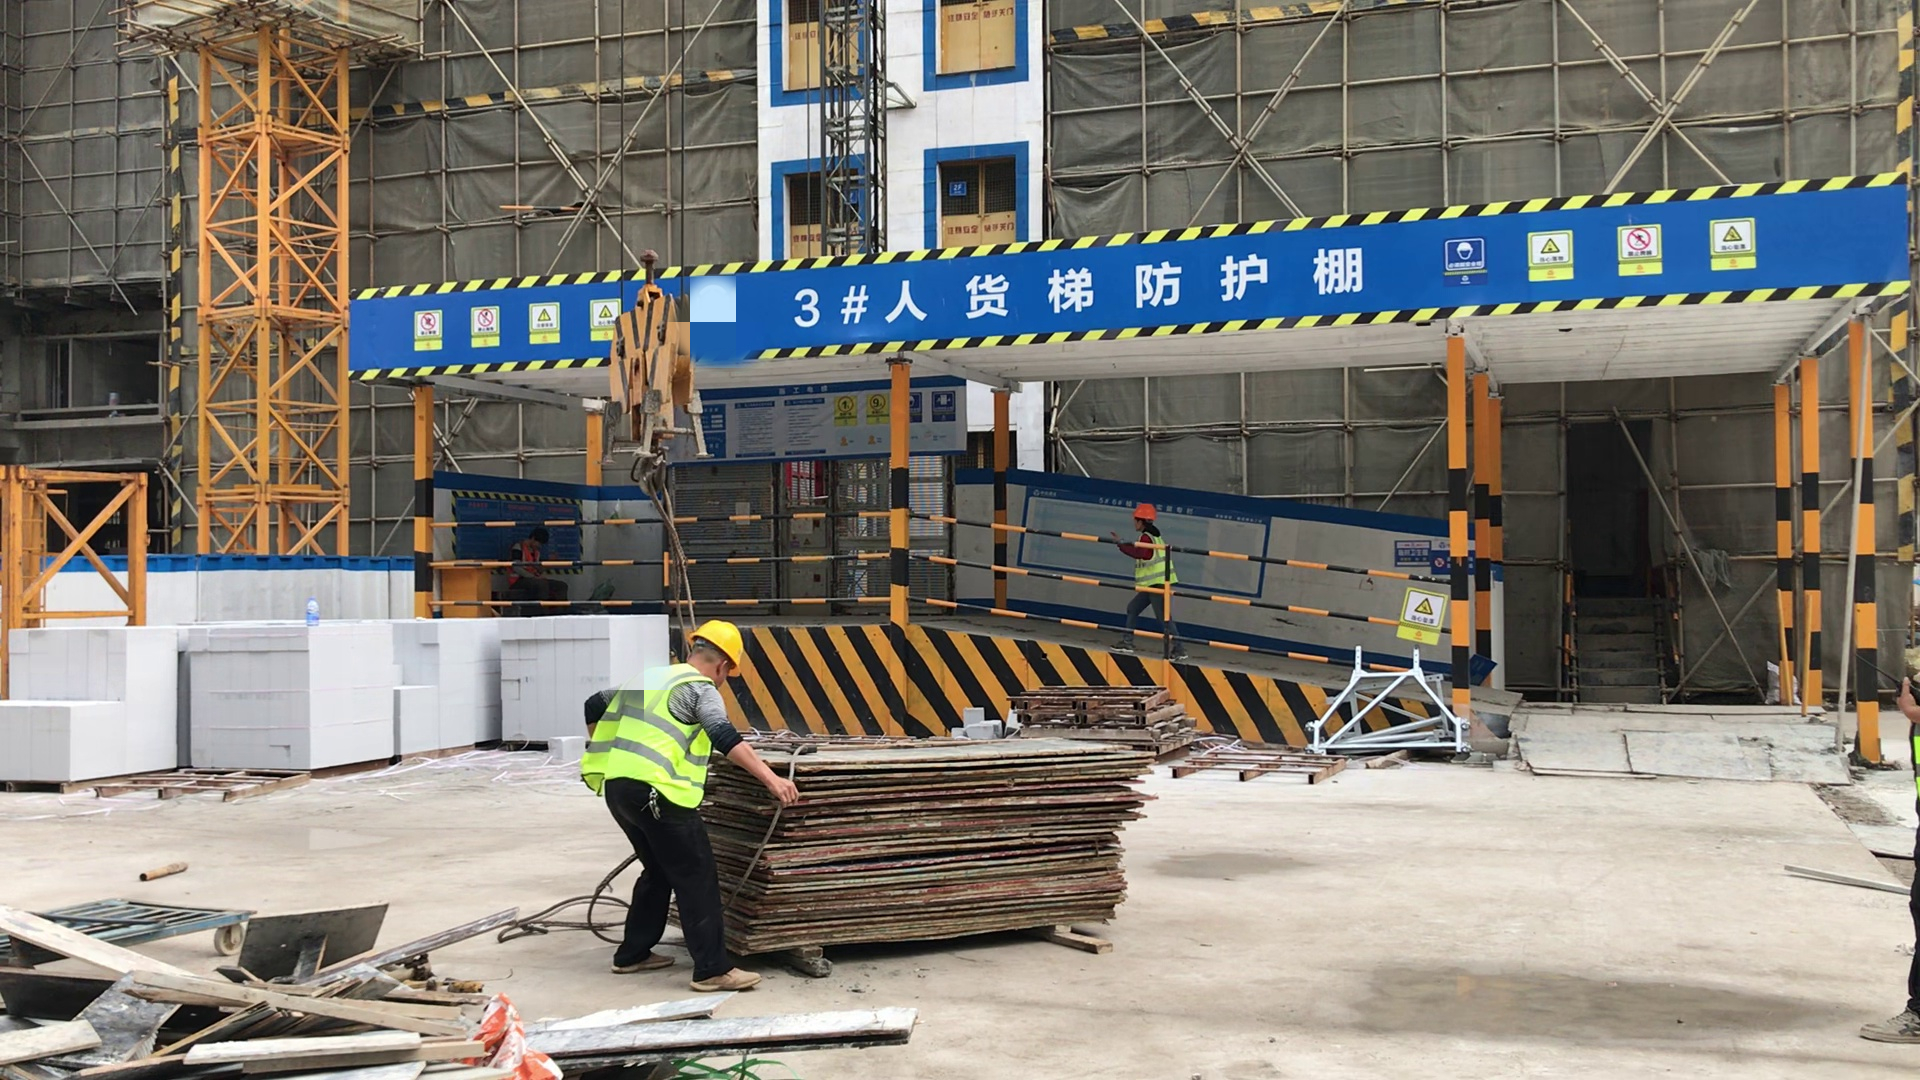board: (740, 725, 1152, 945)
brick: (188, 617, 507, 762), (1, 620, 185, 788), (505, 610, 626, 744)
ebox: (433, 552, 491, 616)
handcart: (1, 890, 259, 953)
helmet: (688, 614, 744, 678), (1130, 501, 1158, 524)
hook: (605, 273, 699, 495)
person: (582, 605, 754, 995), (1115, 492, 1178, 662), (503, 529, 567, 601)
slogan: (788, 247, 1368, 331), (1436, 222, 1740, 300), (407, 304, 615, 349), (1397, 581, 1443, 650)
vest: (584, 657, 711, 807), (1133, 532, 1178, 588), (509, 543, 544, 580)
